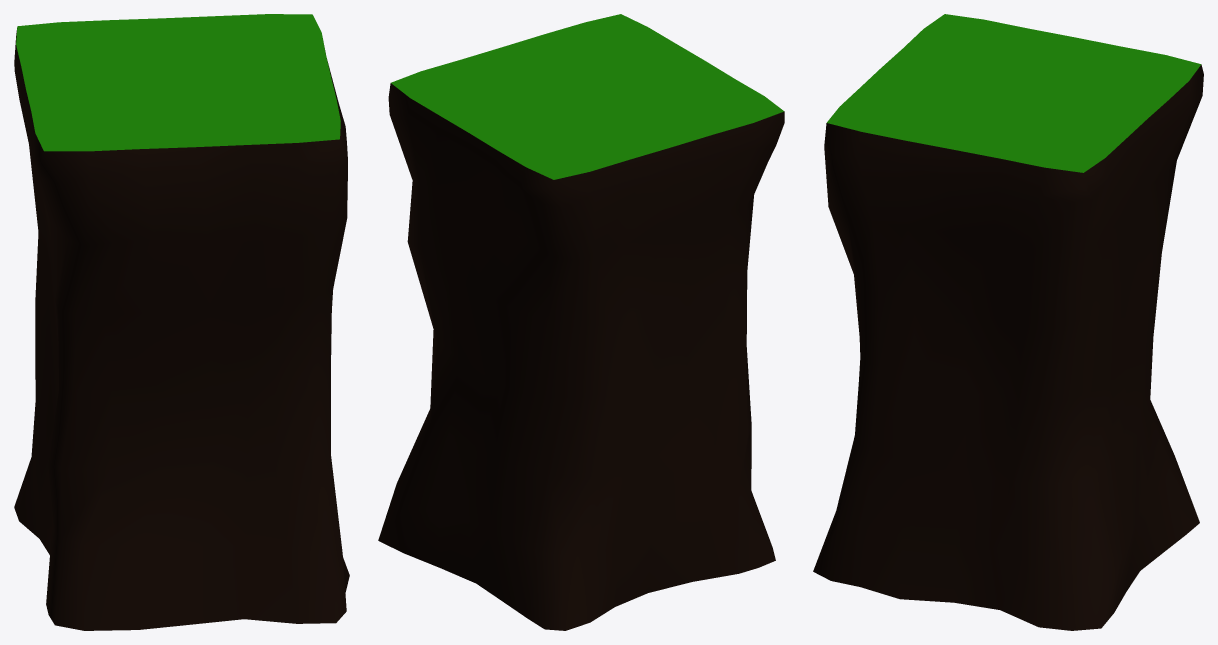
File: RockyBaseBlocks3x3x007_Fixed.FBX
The picture shows the model from 3 angles, left to right: view 1: azimuth 30°, elevation 25°; view 2: azimuth 150°, elevation 25°; view 3: azimuth 270°, elevation 25°; orthographic projection. The views are drawn at different scales.
Parts seen in each view (by area): view 1: RockyBaseBlocks3x3x007_NEW; view 2: RockyBaseBlocks3x3x007_NEW; view 3: RockyBaseBlocks3x3x007_NEW.
Part boxes in pixels (x1,y1,x2,y2): RockyBaseBlocks3x3x007_NEW: (14, 14, 349, 630); RockyBaseBlocks3x3x007_NEW: (378, 14, 784, 630); RockyBaseBlocks3x3x007_NEW: (813, 14, 1203, 630).
Size of the model in its own units: 0.2053 by 0.2652 by 0.2071.
